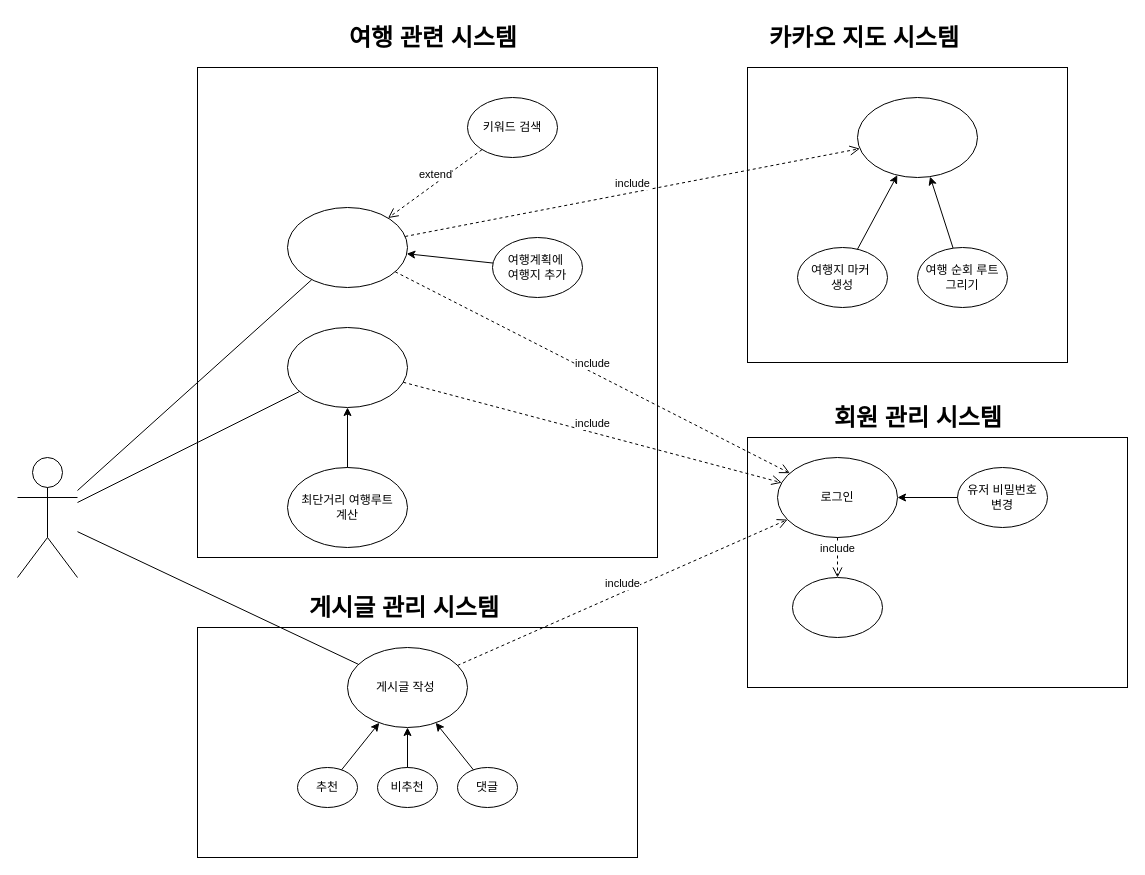
The diagram is 1145 pixels wide and 875 high, and some of its shapes have lost their labels. Each missing label, with the box of its shape:
User: (16, 456, 78, 578)
여행계획 추가: (286, 326, 408, 408)
여행지 검색: (286, 206, 408, 288)
인증 토큰 발행: (792, 576, 882, 638)
카카오 맵 로딩: (856, 96, 978, 178)
